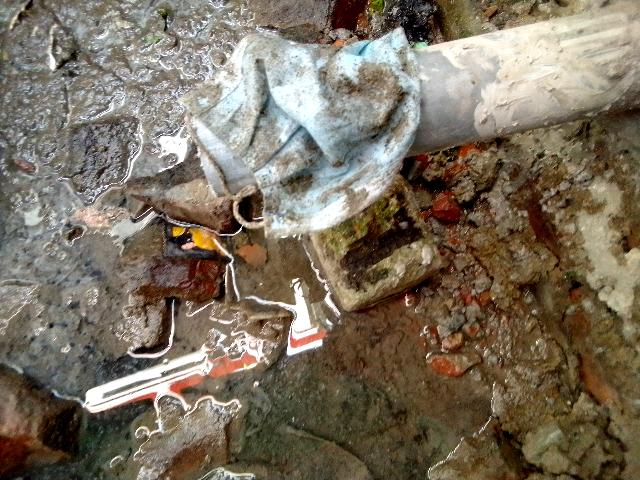mask: (234, 43, 414, 210)
